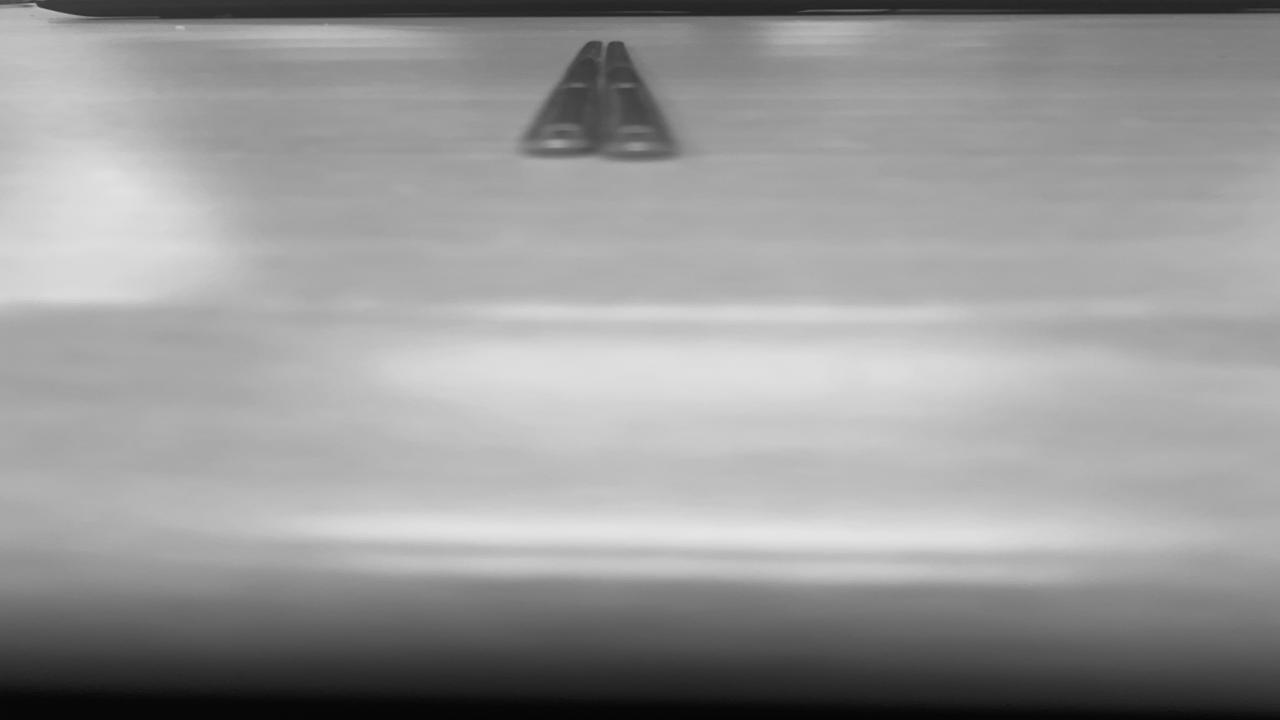chopstick: (523, 42, 679, 160)
